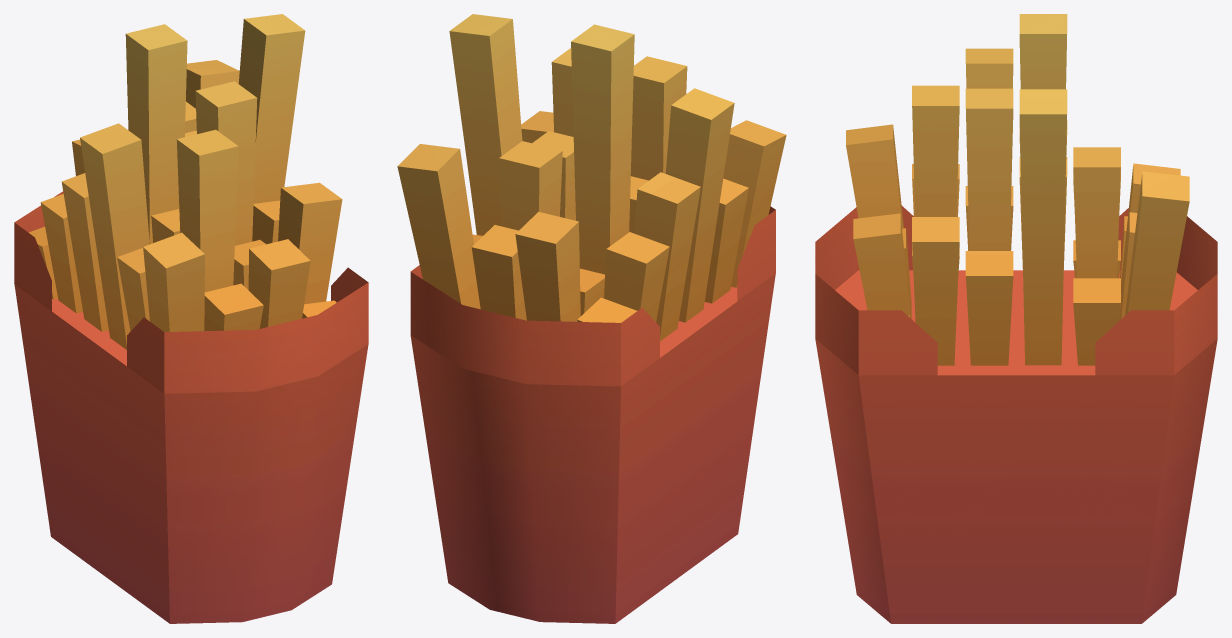
Rendered from fries.glb.
3 views of the same model, side by side, from view 1: azimuth 30°, elevation 25°; view 2: azimuth 150°, elevation 25°; view 3: azimuth 270°, elevation 25° (orthographic). The views are drawn at different scales.
Parts seen in each view (by area): view 1: fries (×2); view 2: fries (×2); view 3: fries (×2).
Part boxes in pixels (left/top/right/bottom): fries (×2): left=14, top=14, right=368, bottom=623; fries (×2): left=397, top=14, right=786, bottom=623; fries (×2): left=815, top=14, right=1217, bottom=623.
Bounding box in the file's own units: 0.183 × 0.3977 × 0.2653.
Materials: 1 (1 with a texture image).
